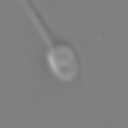normal: (19, 1, 56, 47)
